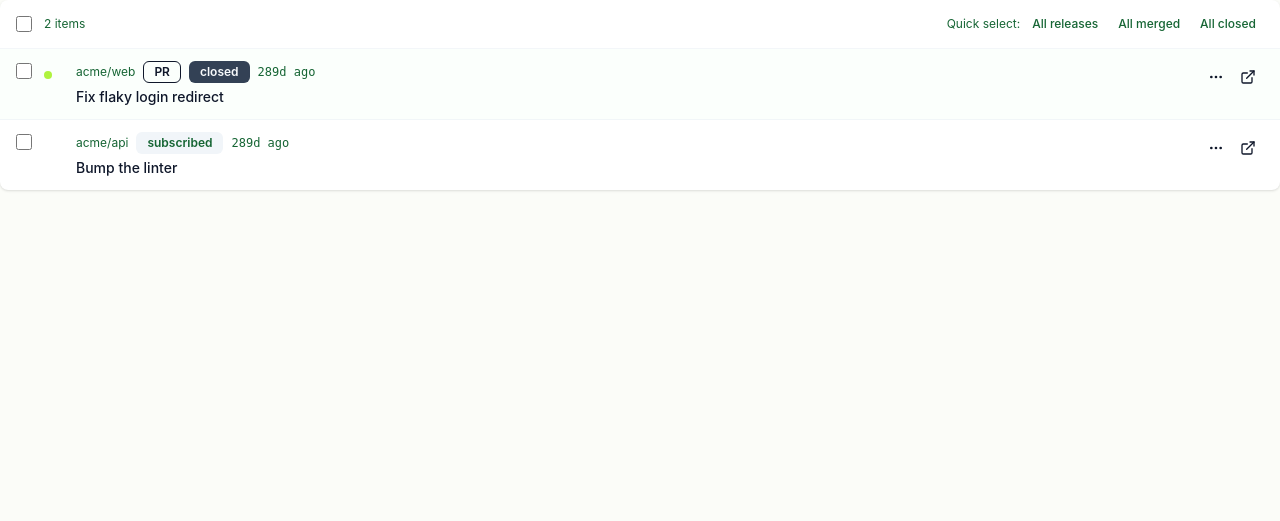
Test: NotificationList › opens the row menu on keyboard-initiated context menu (Shift+F10)
The image size is (1280, 521).
Step 1. Right-click the list item with id "notification-n_001" → (640, 84), box [0, 49, 1279, 120]
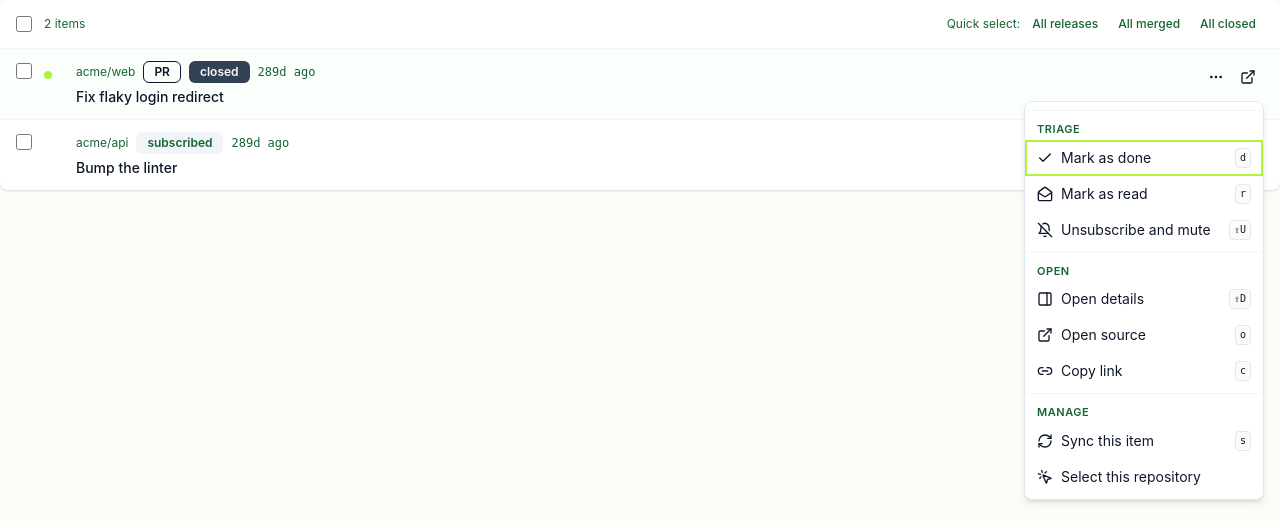
Check: the menu named "Actions for Fix flaky login redirect" is shown, box [1024, 101, 1264, 500]
